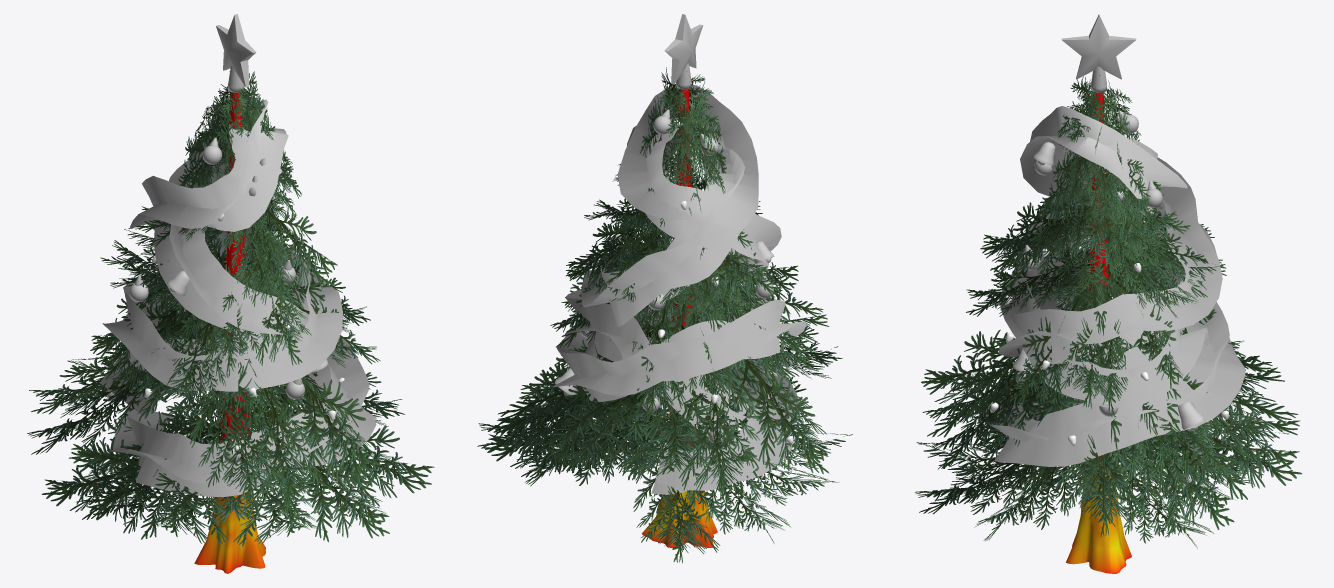
File: SM_ChristmasTree.fbx
3 renders of one model, left to right at view 1: azimuth 30°, elevation 25°; view 2: azimuth 150°, elevation 25°; view 3: azimuth 270°, elevation 25°, orthographic. The views are drawn at different scales.
Visible parts, largest first — view 1: SM_ChristmasTree_LOD0; view 2: SM_ChristmasTree_LOD0; view 3: SM_ChristmasTree_LOD0.
Part boxes in pixels (x1,y1,x2,y2): SM_ChristmasTree_LOD0: (27,14,434,573); SM_ChristmasTree_LOD0: (477,14,852,563); SM_ChristmasTree_LOD0: (915,14,1302,573).
Size of the model in its own units: 544 by 758 by 535.
